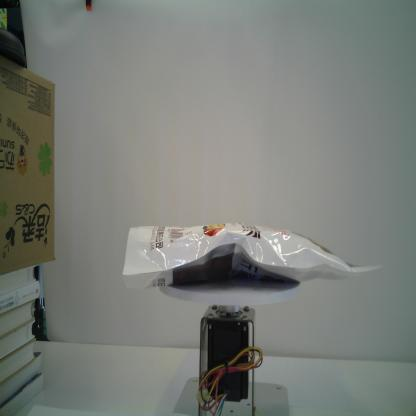Dried Food: (122, 220, 388, 290)
